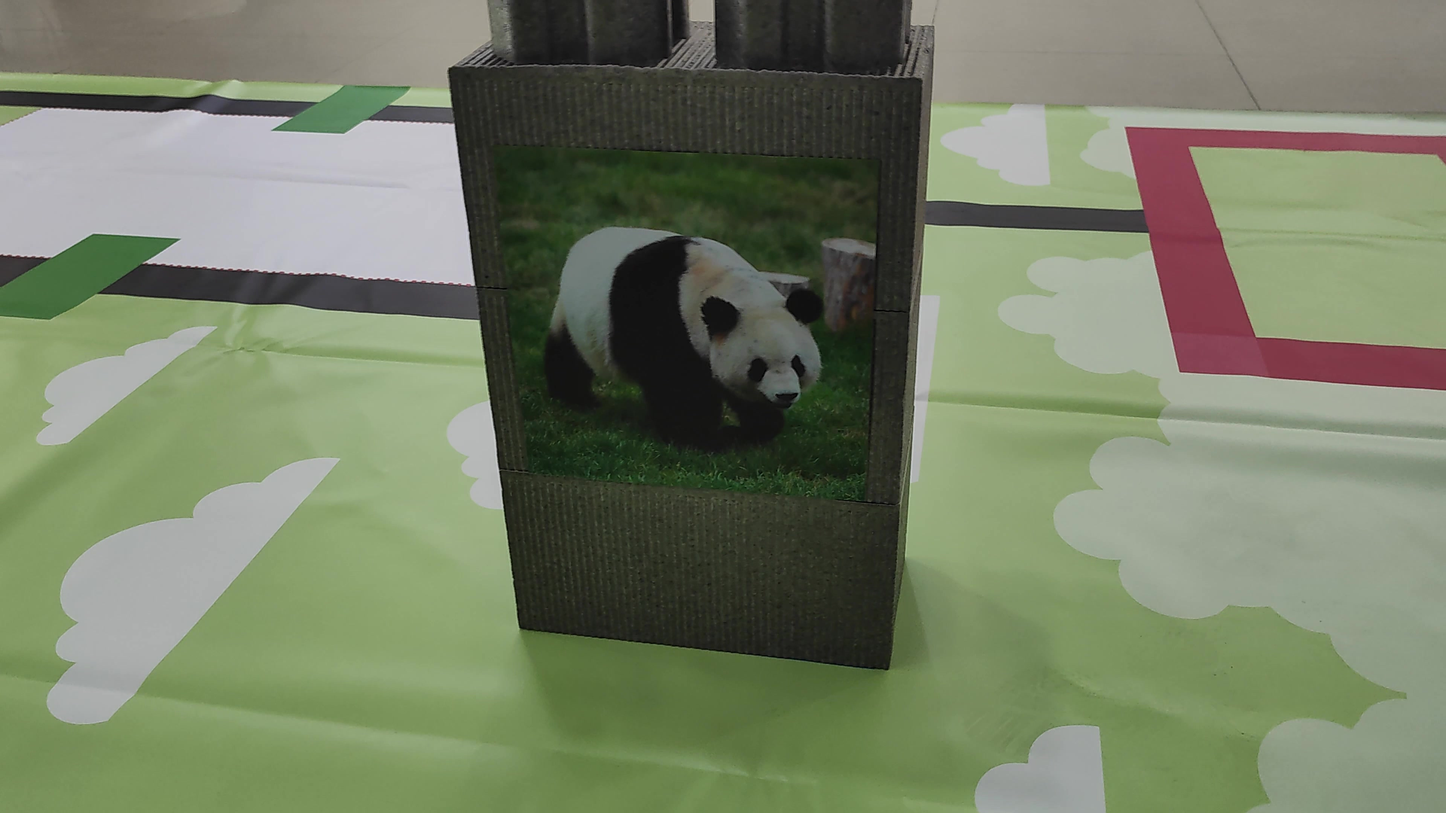panda: (543, 219, 849, 485)
